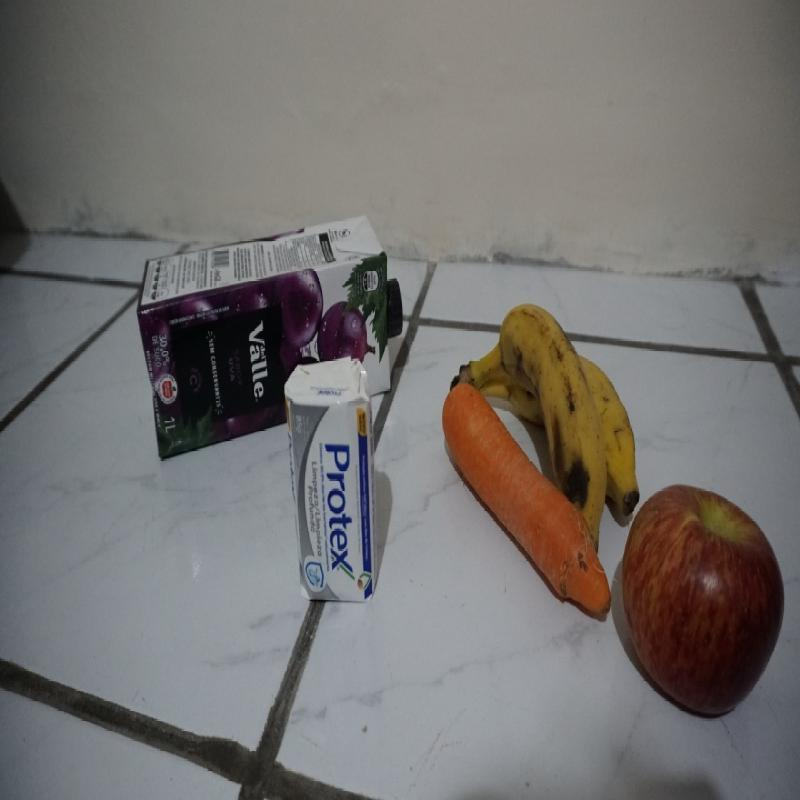Apple: (621, 481, 786, 720)
Banana: (448, 301, 640, 566)
Carrot: (442, 383, 615, 624)
Soap: (281, 355, 380, 605)
